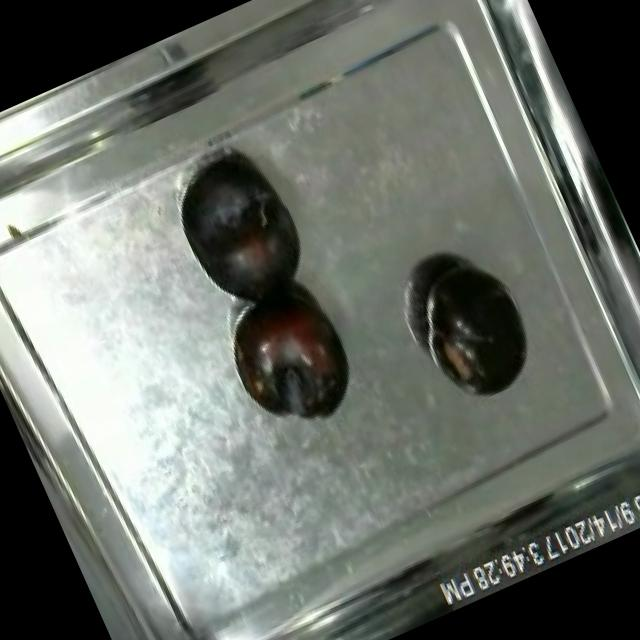Fruit: (160, 138, 326, 330), (210, 268, 375, 451), (405, 240, 553, 416)
